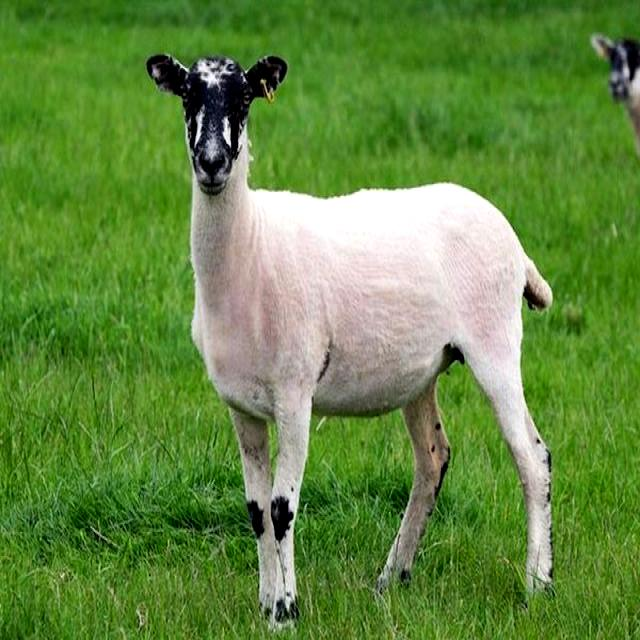sheep: (146, 54, 554, 628)
